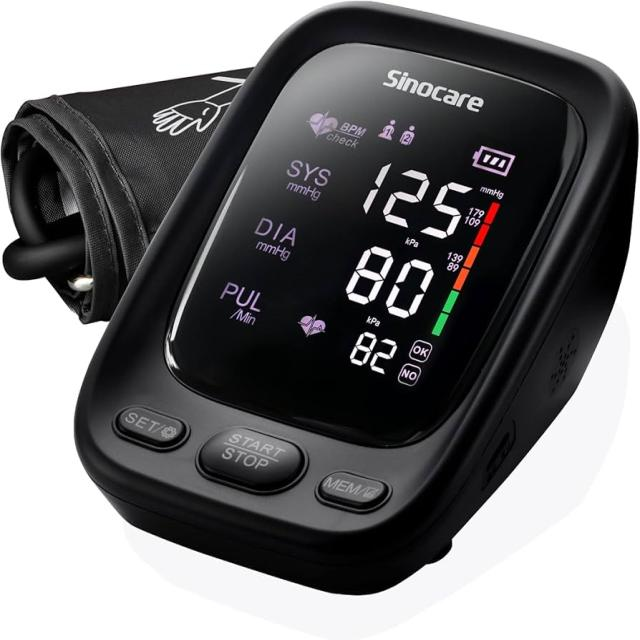dia: (331, 234, 448, 332)
pul: (338, 320, 403, 381)
ssd: (164, 0, 574, 477)
sys: (349, 150, 479, 247)
